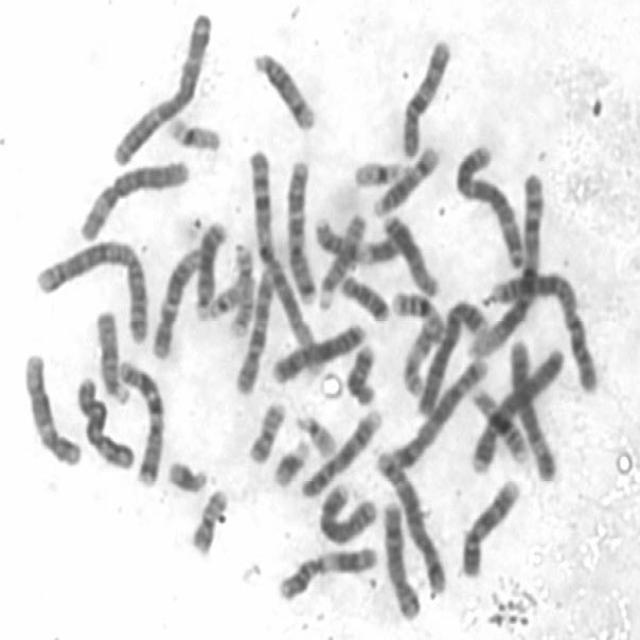A1: (244, 142, 328, 374), (463, 166, 547, 360)
A2: (486, 265, 603, 395), (30, 231, 154, 346)
A3: (108, 2, 217, 166), (450, 137, 528, 270)
B4: (465, 337, 568, 476), (414, 292, 491, 418)
B5: (386, 350, 492, 473), (371, 440, 451, 597)
C10: (396, 31, 455, 160), (232, 258, 282, 397)
C11: (273, 538, 382, 602), (308, 211, 408, 266)
C12: (17, 344, 84, 468), (146, 240, 205, 362)
C6: (74, 152, 193, 243), (502, 332, 560, 483)
C7: (114, 354, 168, 489), (282, 150, 319, 306)
C8: (378, 495, 424, 621), (315, 476, 380, 546)
C9: (296, 404, 384, 501), (454, 470, 524, 580)
D13: (377, 206, 443, 300), (190, 211, 229, 320)
D14: (247, 43, 318, 133), (366, 137, 440, 221)
D15: (314, 207, 368, 311), (90, 301, 133, 406)
E16: (463, 379, 530, 464), (386, 284, 445, 342)
E17: (397, 313, 444, 397), (226, 235, 256, 338)
E18: (337, 268, 393, 322), (342, 336, 382, 408)
F19: (161, 109, 224, 153), (349, 152, 408, 188)
F20: (187, 481, 232, 557), (244, 394, 288, 465)
G21: (268, 432, 312, 489), (162, 452, 211, 496)
G22: (290, 404, 338, 458), (203, 274, 251, 320)
X: (269, 314, 370, 384), (72, 370, 137, 472)
